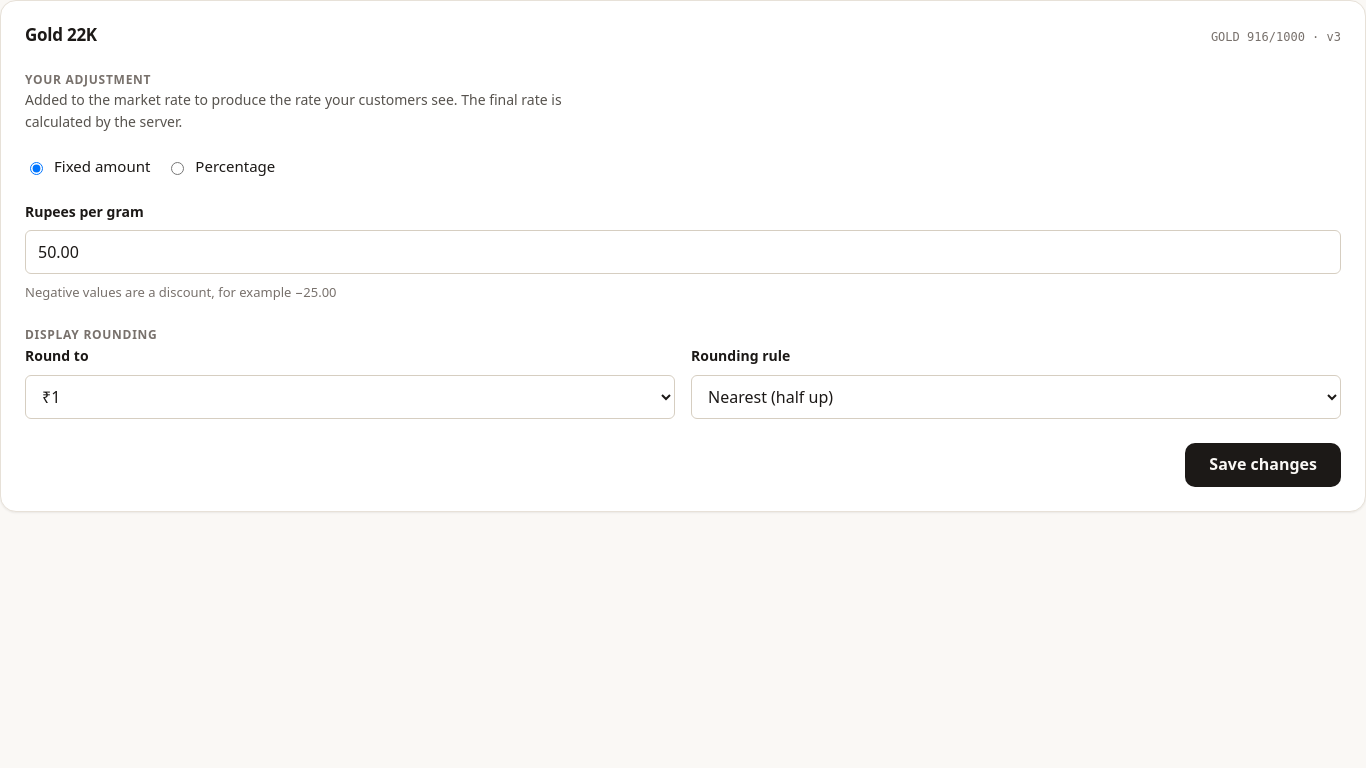
Test: saving › Editor_successfulSave_confirmsIt
What coordinates should you click on to do the following:
click the button "Save changes"
I would click on:
 (1263, 465)
Its box is [1185,443,1341,487].
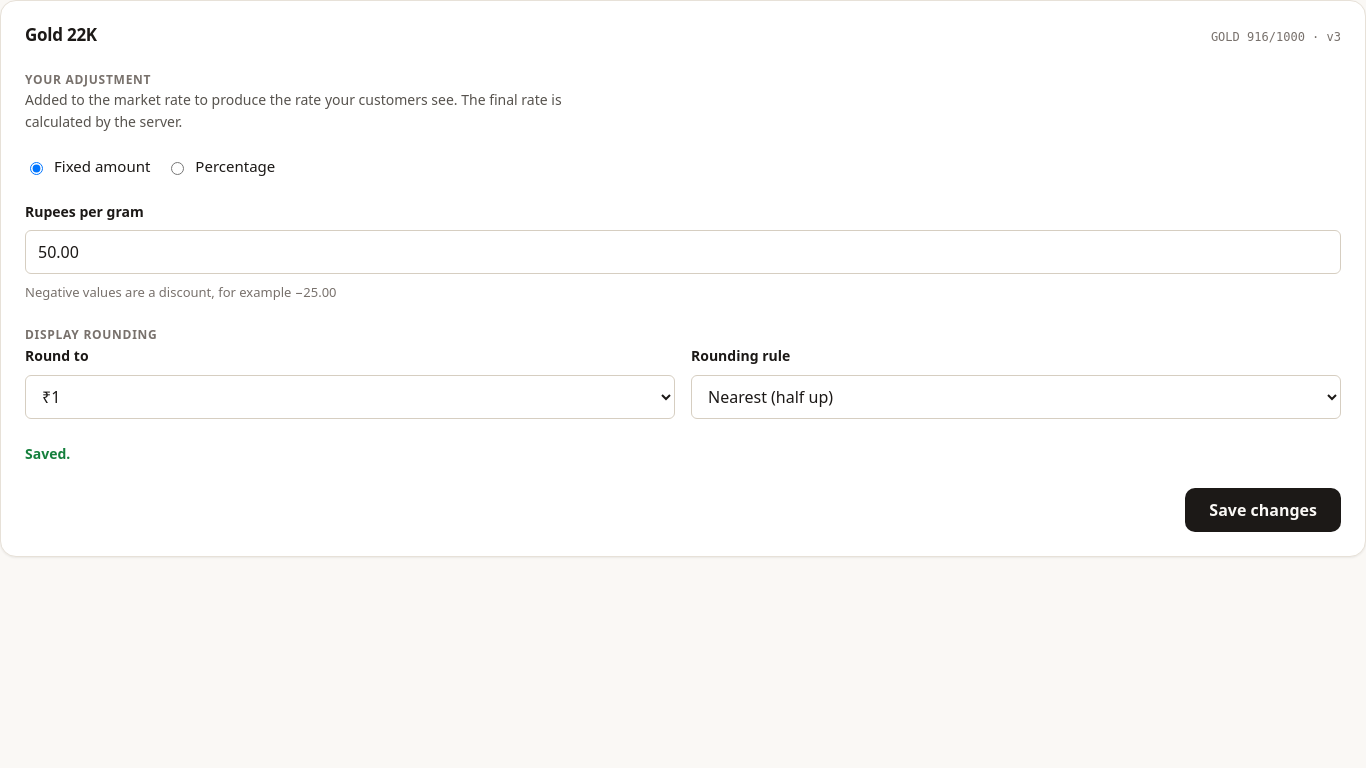
Expected: the text "Saved." is shown, [25,444,70,463]
